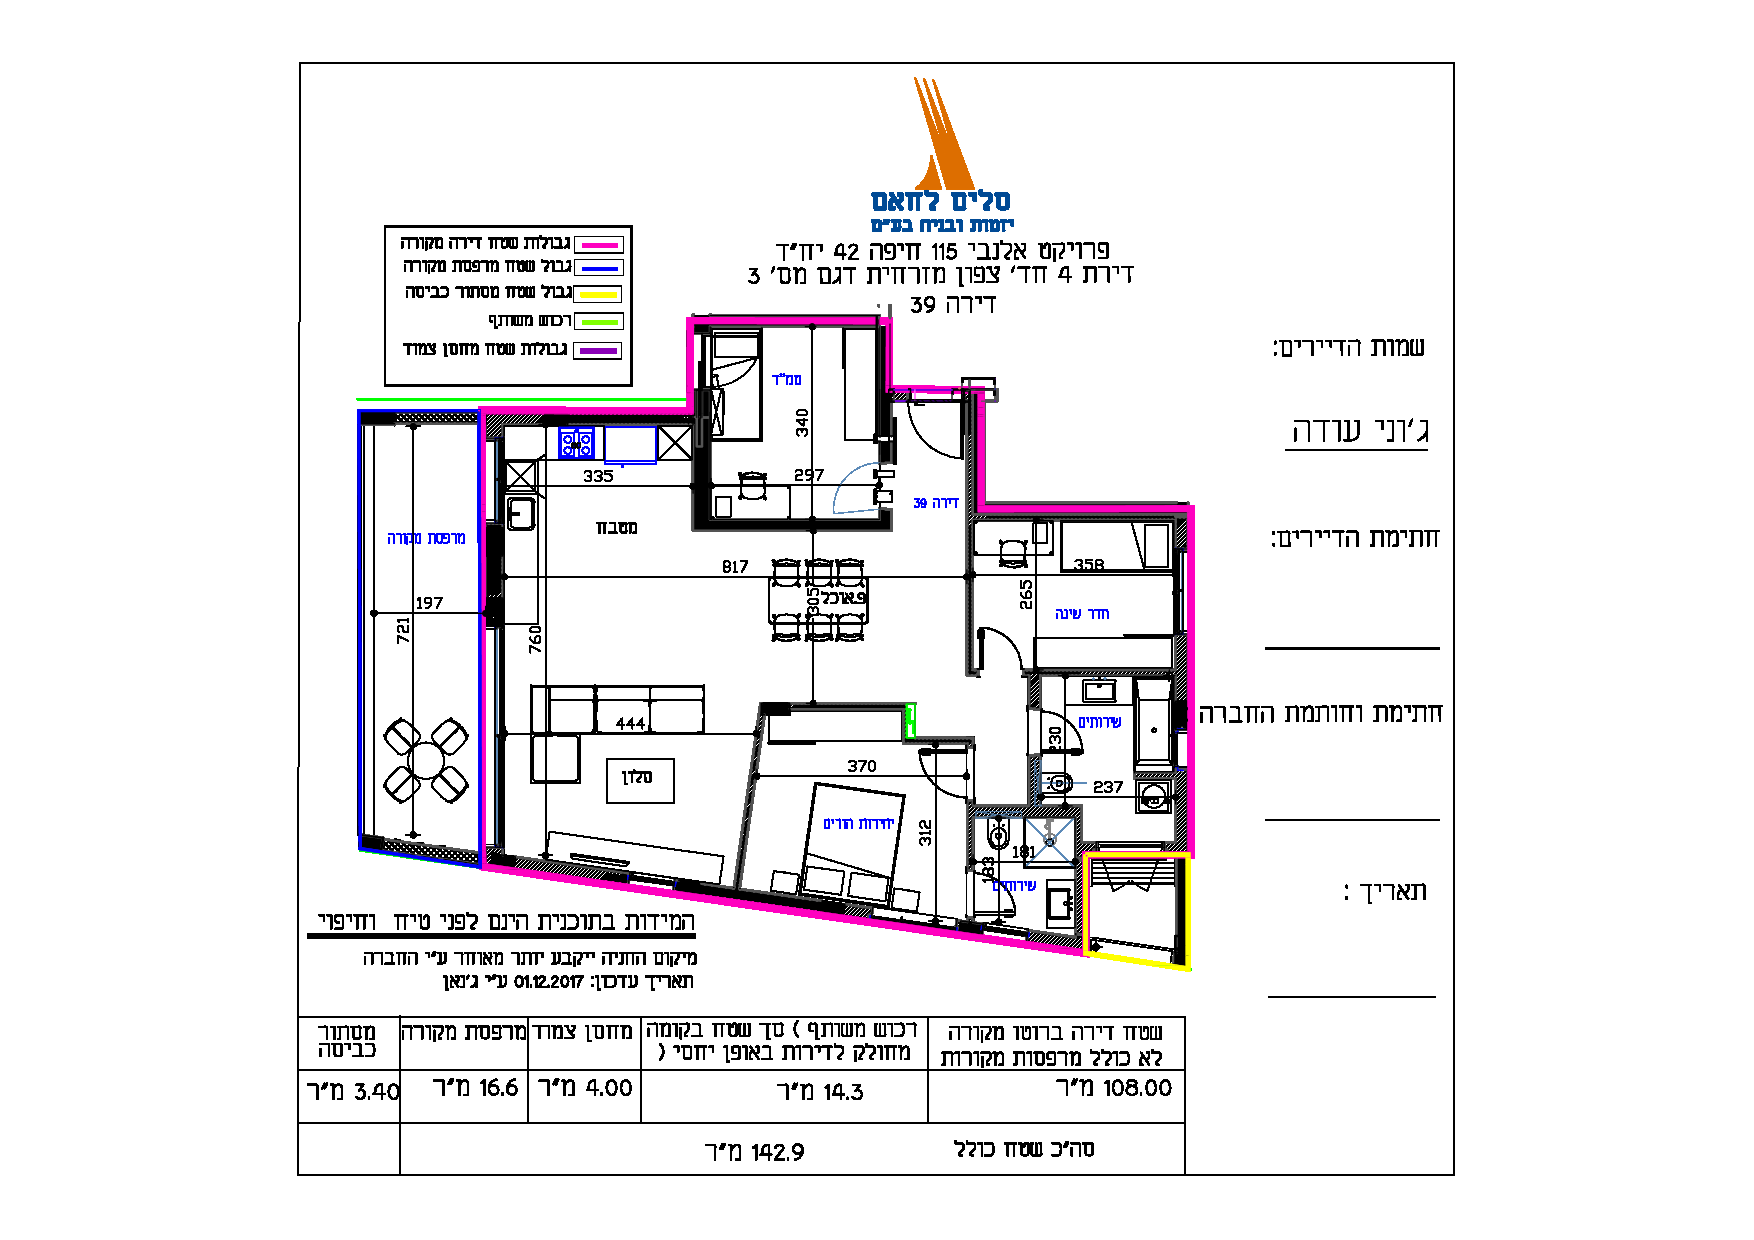door: (903, 411, 962, 466), (972, 617, 1023, 664)
wall: (694, 517, 888, 533)
